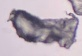microplastic: (6, 7, 80, 50), (67, 1, 82, 15)
